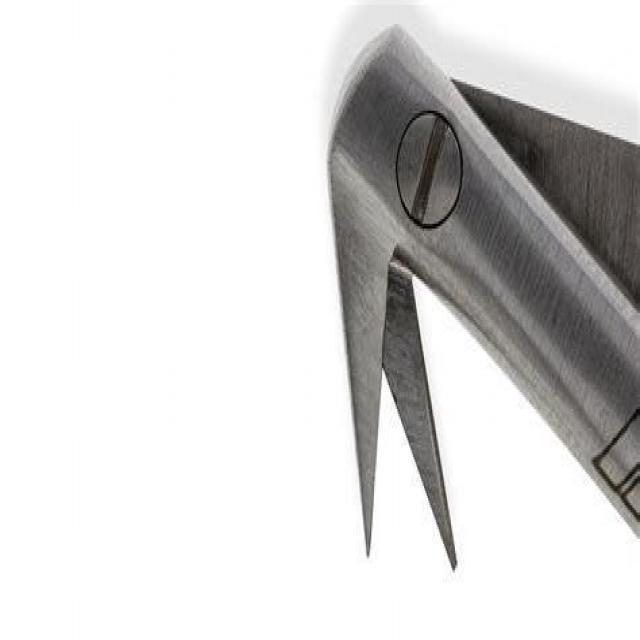Potts: (322, 22, 640, 576)
